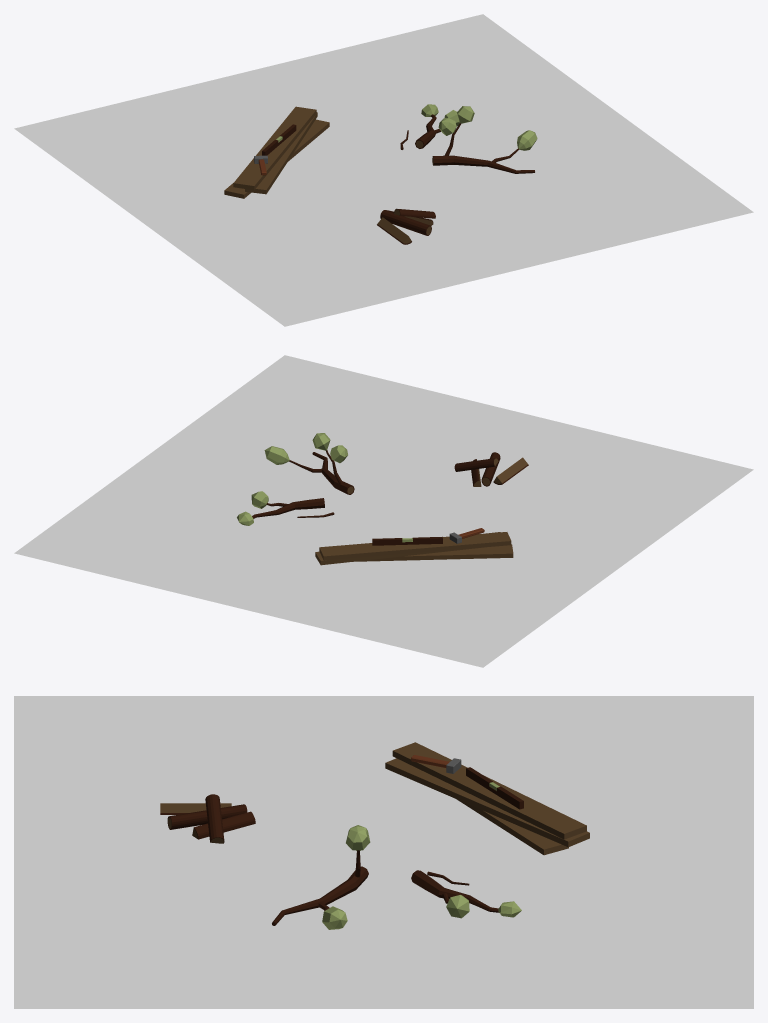
File: about.fbx
3 renders of one model, top to bottom at view 1: azimuth 30°, elevation 25°; view 2: azimuth 150°, elevation 25°; view 3: azimuth 270°, elevation 25°, orthographic. The views are drawn at different scales.
Parts seen in each view (by area): view 1: about-ground, about; view 2: about-ground, about; view 3: about-ground, about.
Part boxes in pixels (box(x1,y1,x2,y2)): about-ground: box(14, 14, 753, 326); about: box(224, 104, 537, 244); about-ground: box(14, 355, 753, 667); about: box(237, 433, 528, 565); about-ground: box(14, 696, 753, 1008); about: box(160, 742, 589, 929).
Bounding box in the file's own units: 750 × 84.83 × 750.
